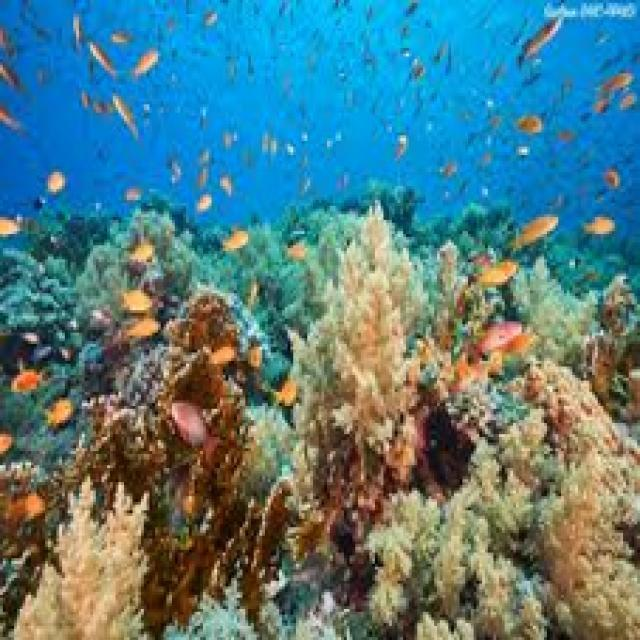Healthy: (304, 236, 420, 485), (377, 498, 532, 640), (25, 486, 146, 640), (548, 449, 639, 640), (524, 364, 628, 461)
